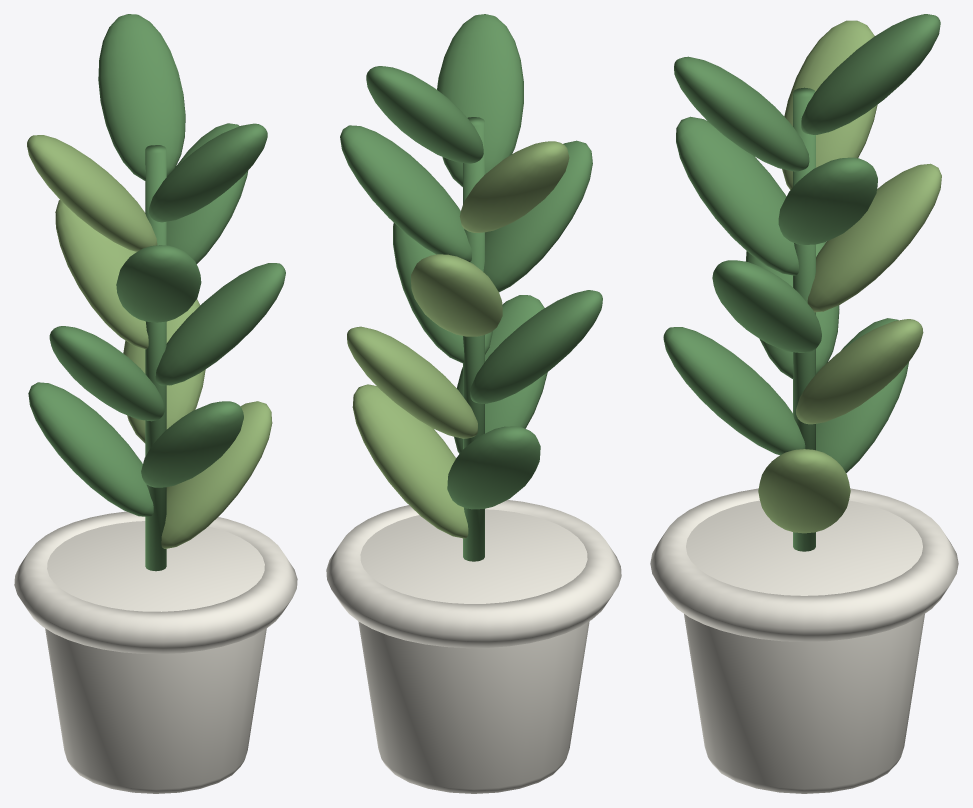
The model's file is atelier-succulent.glb.
3 views of the same model, side by side, from view 1: azimuth 30°, elevation 25°; view 2: azimuth 150°, elevation 25°; view 3: azimuth 270°, elevation 25° (orthographic). The views are drawn at different scales.
Parts seen in each view (by area): view 1: ceramic.042, leaf.006, leafLight.005; view 2: ceramic.042, leaf.006, leafLight.005; view 3: ceramic.042, leaf.006, leafLight.005.
Boxes of the visible parts, x1,y1,x2,y2 form: ceramic.042: (14, 511, 297, 793); leaf.006: (28, 14, 285, 571); leafLight.005: (27, 135, 272, 548); ceramic.042: (326, 500, 621, 793); leaf.006: (340, 14, 602, 561); leafLight.005: (347, 141, 569, 538); ceramic.042: (650, 488, 958, 793); leaf.006: (663, 14, 940, 551); leafLight.005: (758, 20, 941, 533).
Size of the model in its own units: 0.2 by 0.541 by 0.2.
